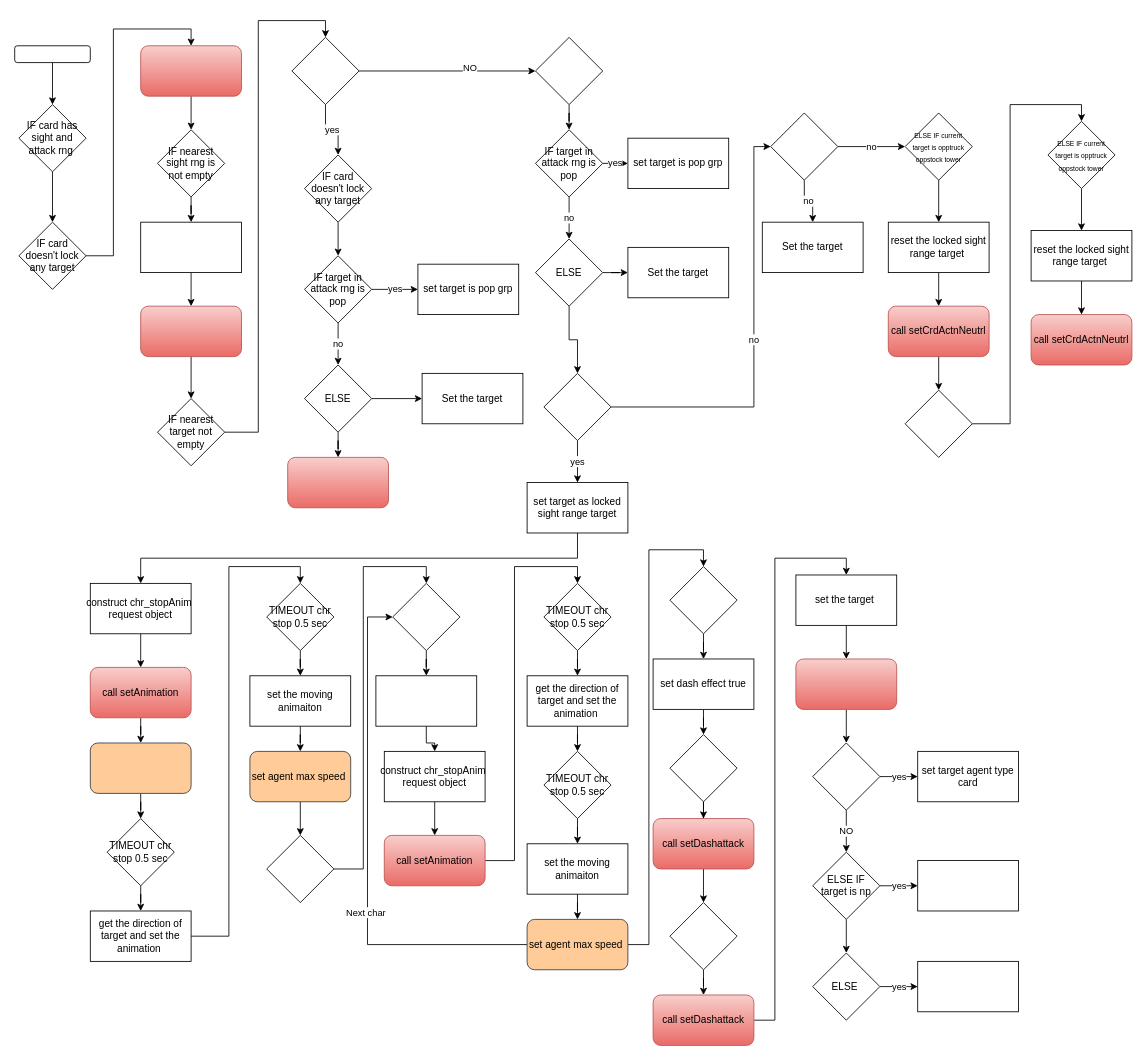
The diagram is 1147 pixels wide and 1060 high, and some of its shapes have lost their labels. The shapes that lost their labels are listed below. From the top down, each one's centre as x and y in pixels, then its label:
At [52,54]: "start".
At [191,70]: "call searchTarget".
At [325,71]: "IF target in attack range".
At [569,71]: "ELSE IF target in sight range".
At [804,146]: "ELSE IF locked sight rng = current target".
At [191,247]: "construct the identify target object".
At [191,331]: "call identifyTarget".
At [577,407]: "IF search target != locked sight rng target".
At [938,423]: "IF search result is empty".
At [337,482]: "call triggerAttack".
At [426,617]: "FOR all card".
At [703,600]: "IF card has dash effect".
At [426,700]: "set the target agent locked sight target to child".
At [846,683]: "call findPathRules".
At [140,767]: "set agent max speed 0".
At [703,768]: "IF dash true and not do dash".
At [846,776]: "IF target is card".
At [300,869]: "IF card is group mode".
At [967,885]: "set target agent type npc".
At [703,936]: "IF dash speed".
At [967,986]: "set target agent type pop".
